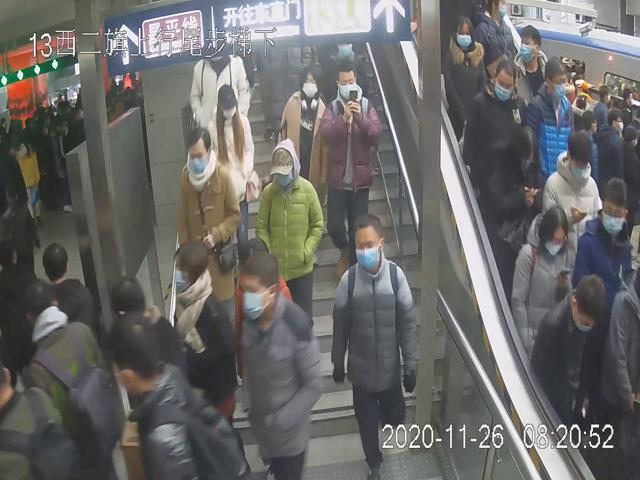person: (331, 210, 419, 479), (237, 251, 322, 480), (177, 125, 241, 349), (255, 137, 323, 332), (323, 60, 383, 279), (172, 240, 235, 430), (206, 82, 261, 261), (509, 204, 571, 359), (465, 58, 524, 182), (277, 64, 326, 207), (444, 12, 487, 131)
